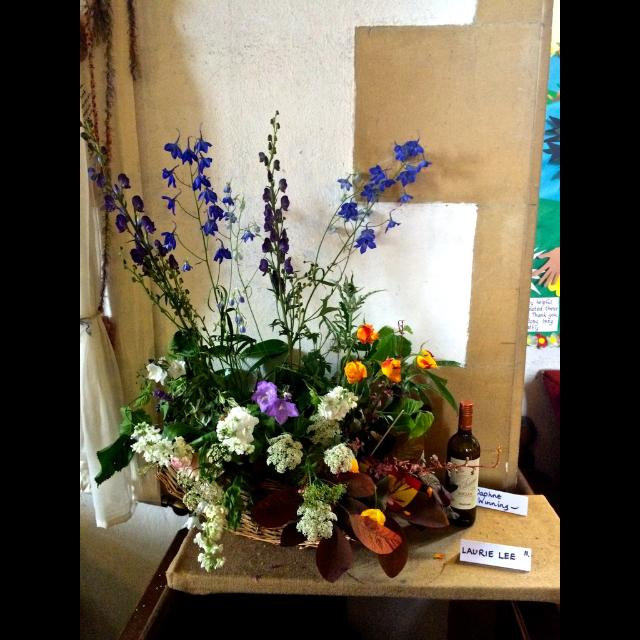Flower: (84, 119, 196, 331), (126, 420, 234, 568), (333, 136, 433, 254), (164, 128, 228, 262), (258, 120, 292, 296), (214, 406, 260, 452), (294, 503, 340, 542), (264, 434, 308, 474), (316, 380, 356, 424), (216, 287, 247, 333), (320, 442, 356, 480), (306, 414, 344, 444), (268, 396, 300, 428), (207, 441, 237, 473), (252, 380, 276, 416), (380, 355, 402, 385), (344, 358, 366, 384), (358, 507, 382, 529), (153, 390, 175, 412), (146, 364, 166, 388), (355, 325, 381, 343), (418, 352, 437, 368), (170, 356, 184, 376), (238, 228, 254, 244)
